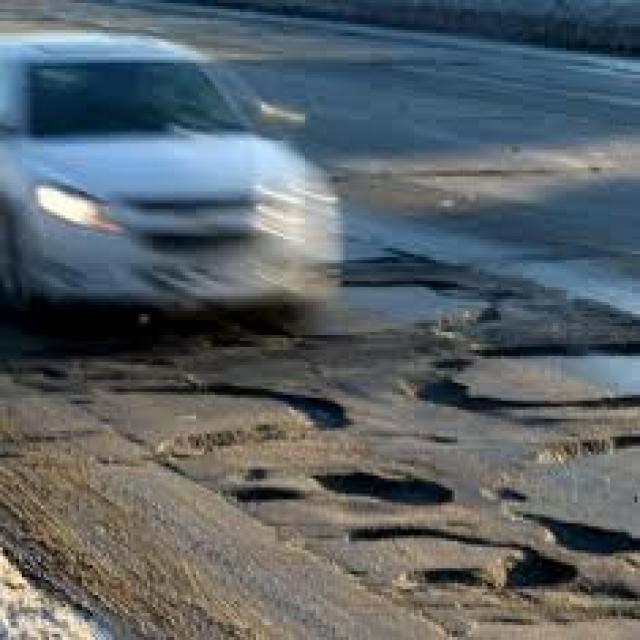Pothole: (101, 329, 640, 625)
